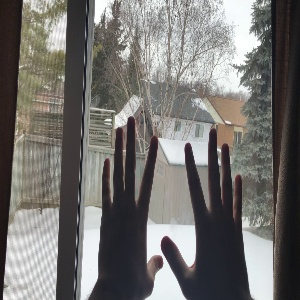hand: (161, 129, 249, 298), (99, 117, 163, 288)
